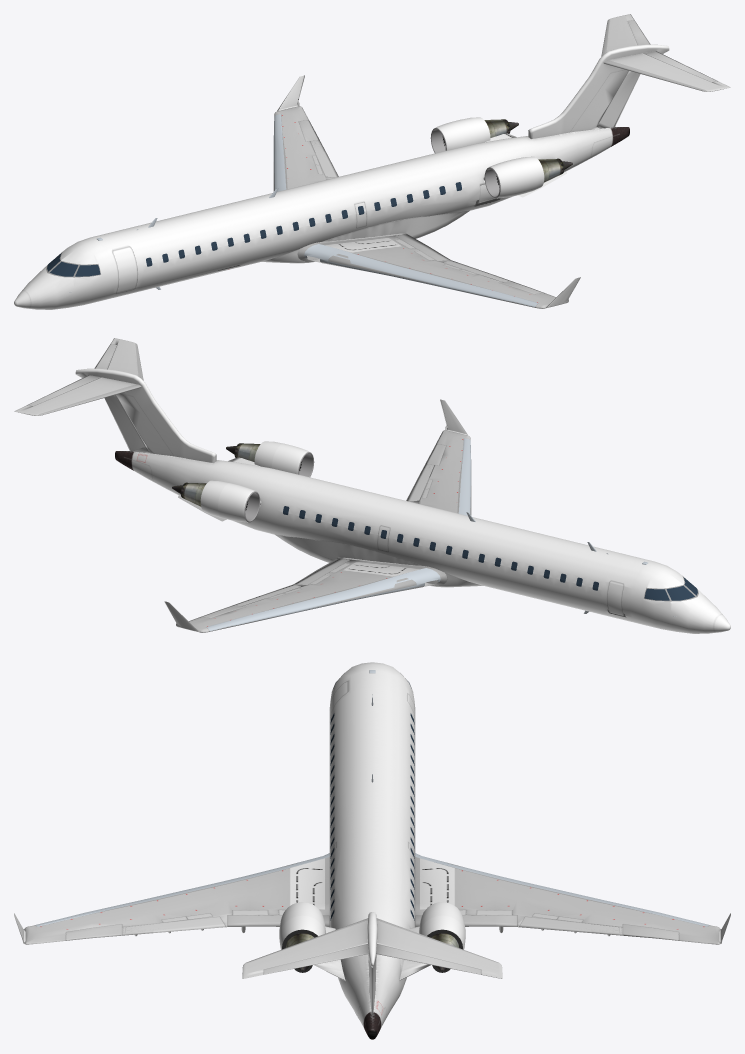
The model's file is crj700.glb.
3 views of the same model, one above another, from view 1: azimuth 30°, elevation 25°; view 2: azimuth 150°, elevation 25°; view 3: azimuth 270°, elevation 25° (orthographic). The views are drawn at different scales.
Size of the model in its own units: 32.46 by 6.09 by 23.29.
Materials: 5 (2 with a texture image).
